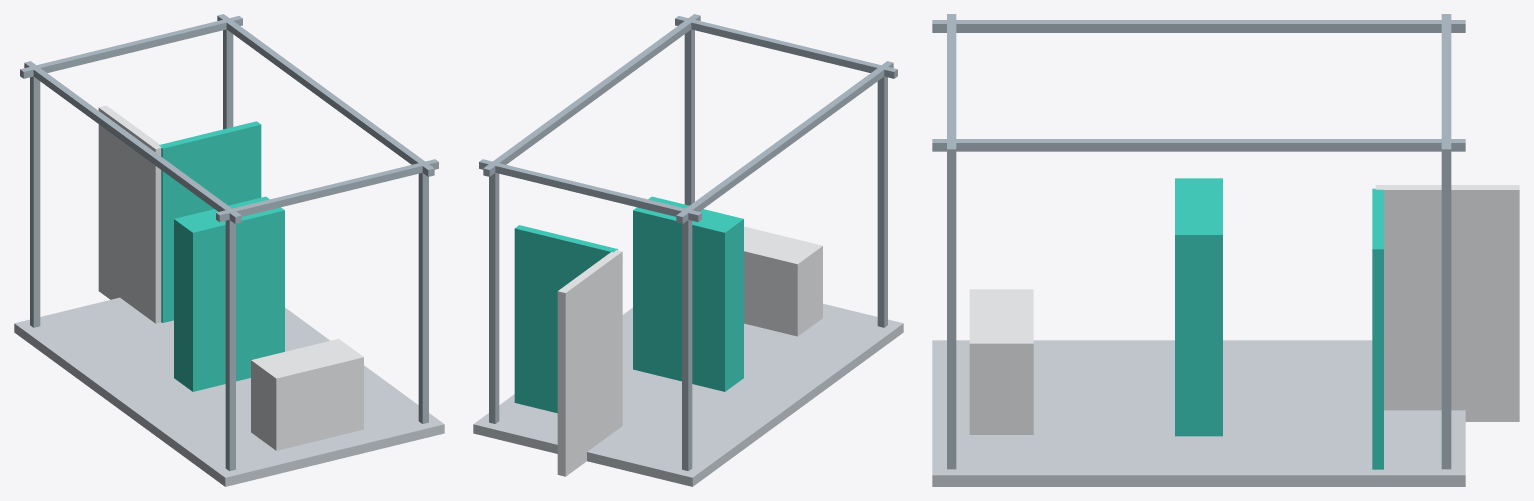
3 renders of one model, left to right at view 1: azimuth 30°, elevation 25°; view 2: azimuth 150°, elevation 25°; view 3: azimuth 270°, elevation 25°, orthographic. The views are drawn at different scales.
Visible parts, largest first — view 1: Exhibition Booth Concept; view 2: Exhibition Booth Concept; view 3: Exhibition Booth Concept.
Part boxes in pixels (bbox=[...]): Exhibition Booth Concept: bbox=[14, 14, 444, 486]; Exhibition Booth Concept: bbox=[473, 14, 903, 486]; Exhibition Booth Concept: bbox=[932, 14, 1519, 486].
Size of the model in its own units: 3 by 3.49 by 5.51.
